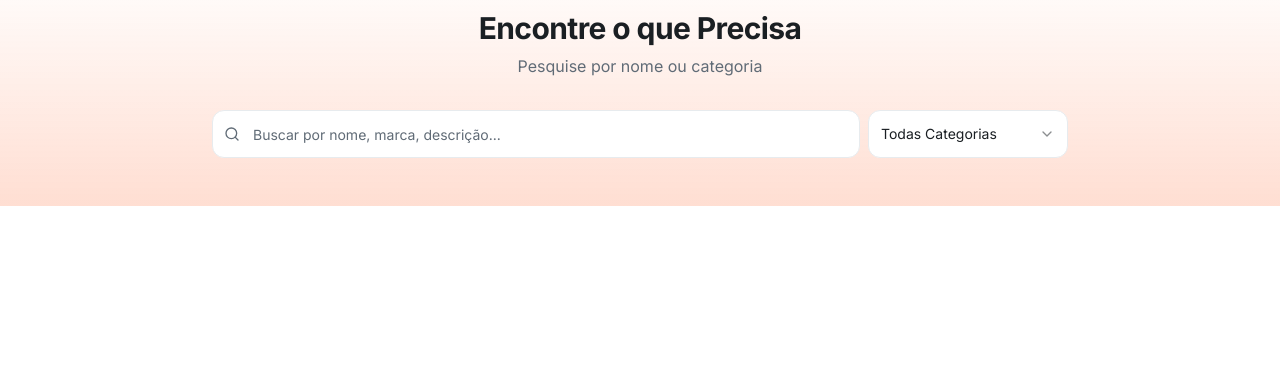
Test: SearchSection › shows "Nenhum produto encontrado" when RPC returns empty
The image size is (1280, 389).
Type "xyznaoexiste" into the field with placeholder "Buscar por nome, marca, descrição..." at (536, 134), box [212,110,860,158]
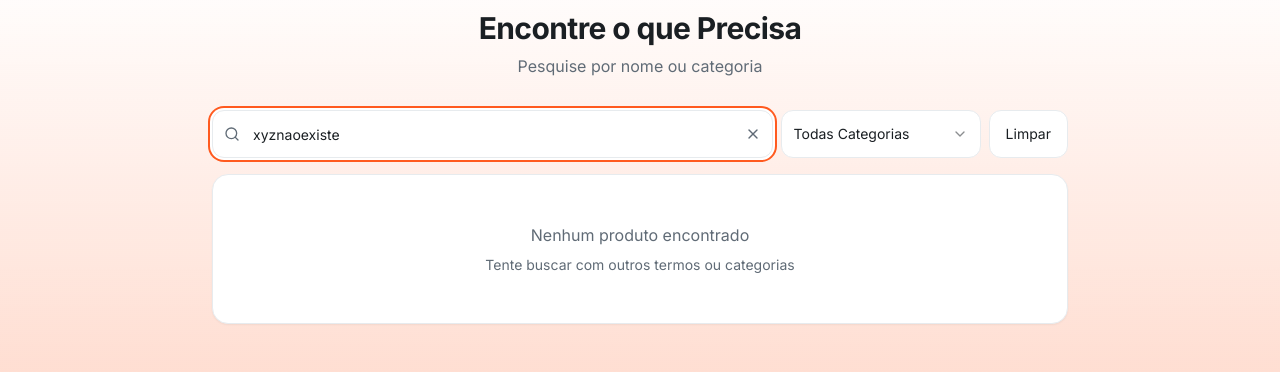
Expected: the text "Nenhum produto encontrado" is shown, [531,225,749,245]
